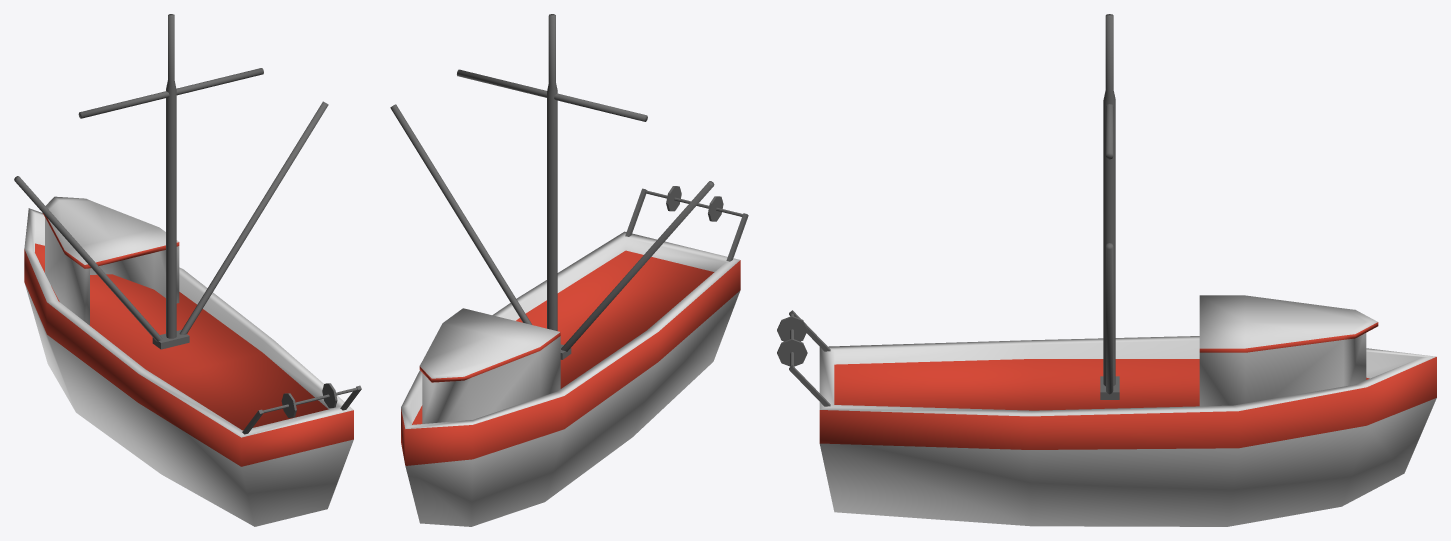
The model's file is FishingBoat_Prototype.fbx.
3 views of the same model, side by side, from view 1: azimuth 30°, elevation 25°; view 2: azimuth 150°, elevation 25°; view 3: azimuth 270°, elevation 25° (orthographic). The views are drawn at different scales.
Parts seen in each view (by area): view 1: Cube.039; view 2: Cube.039; view 3: Cube.039.
Part boxes in pixels (x1,y1,x2,y2): Cube.039: (14, 14, 361, 526); Cube.039: (390, 14, 748, 526); Cube.039: (777, 14, 1436, 526).
Size of the model in its own units: 1.22 by 1.57 by 1.93.
